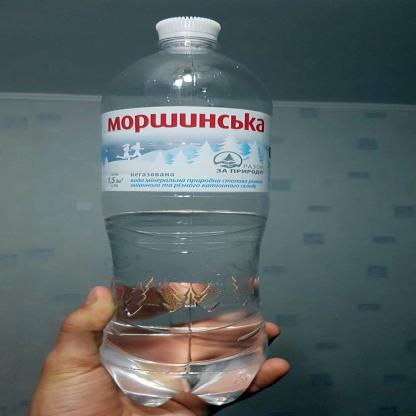bottle: (84, 13, 300, 411)
